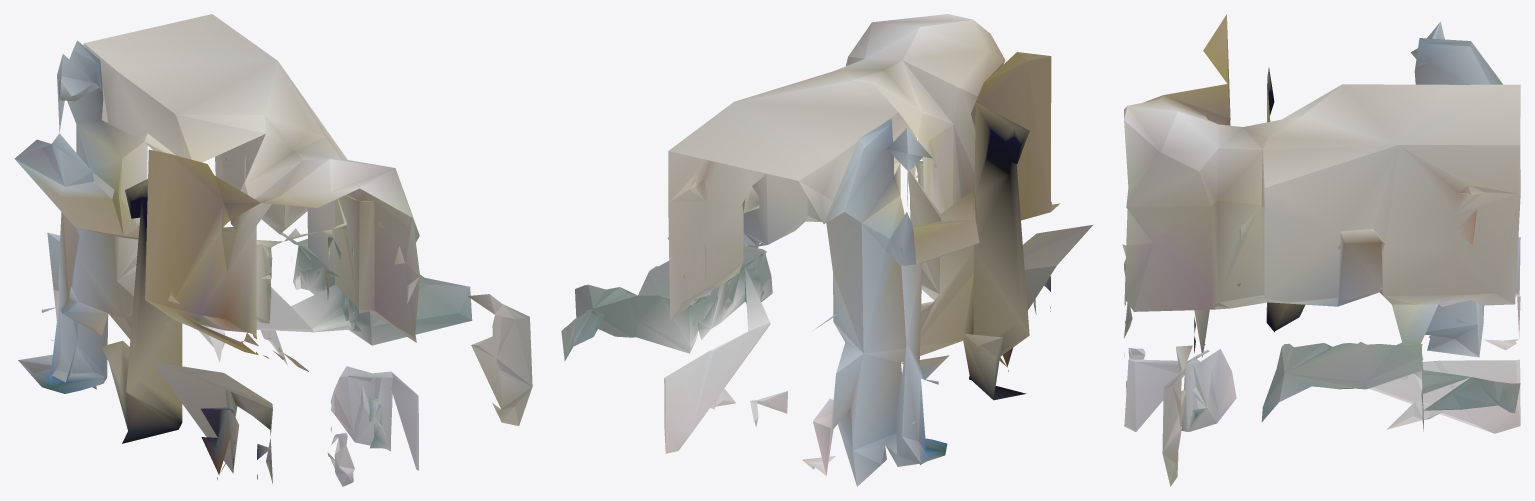
3 renders of one model, left to right at view 1: azimuth 30°, elevation 25°; view 2: azimuth 150°, elevation 25°; view 3: azimuth 270°, elevation 25°, orthographic. The views are drawn at different scales.
Bounding box in the file's own units: 9.98 × 9.02 × 10.04.
